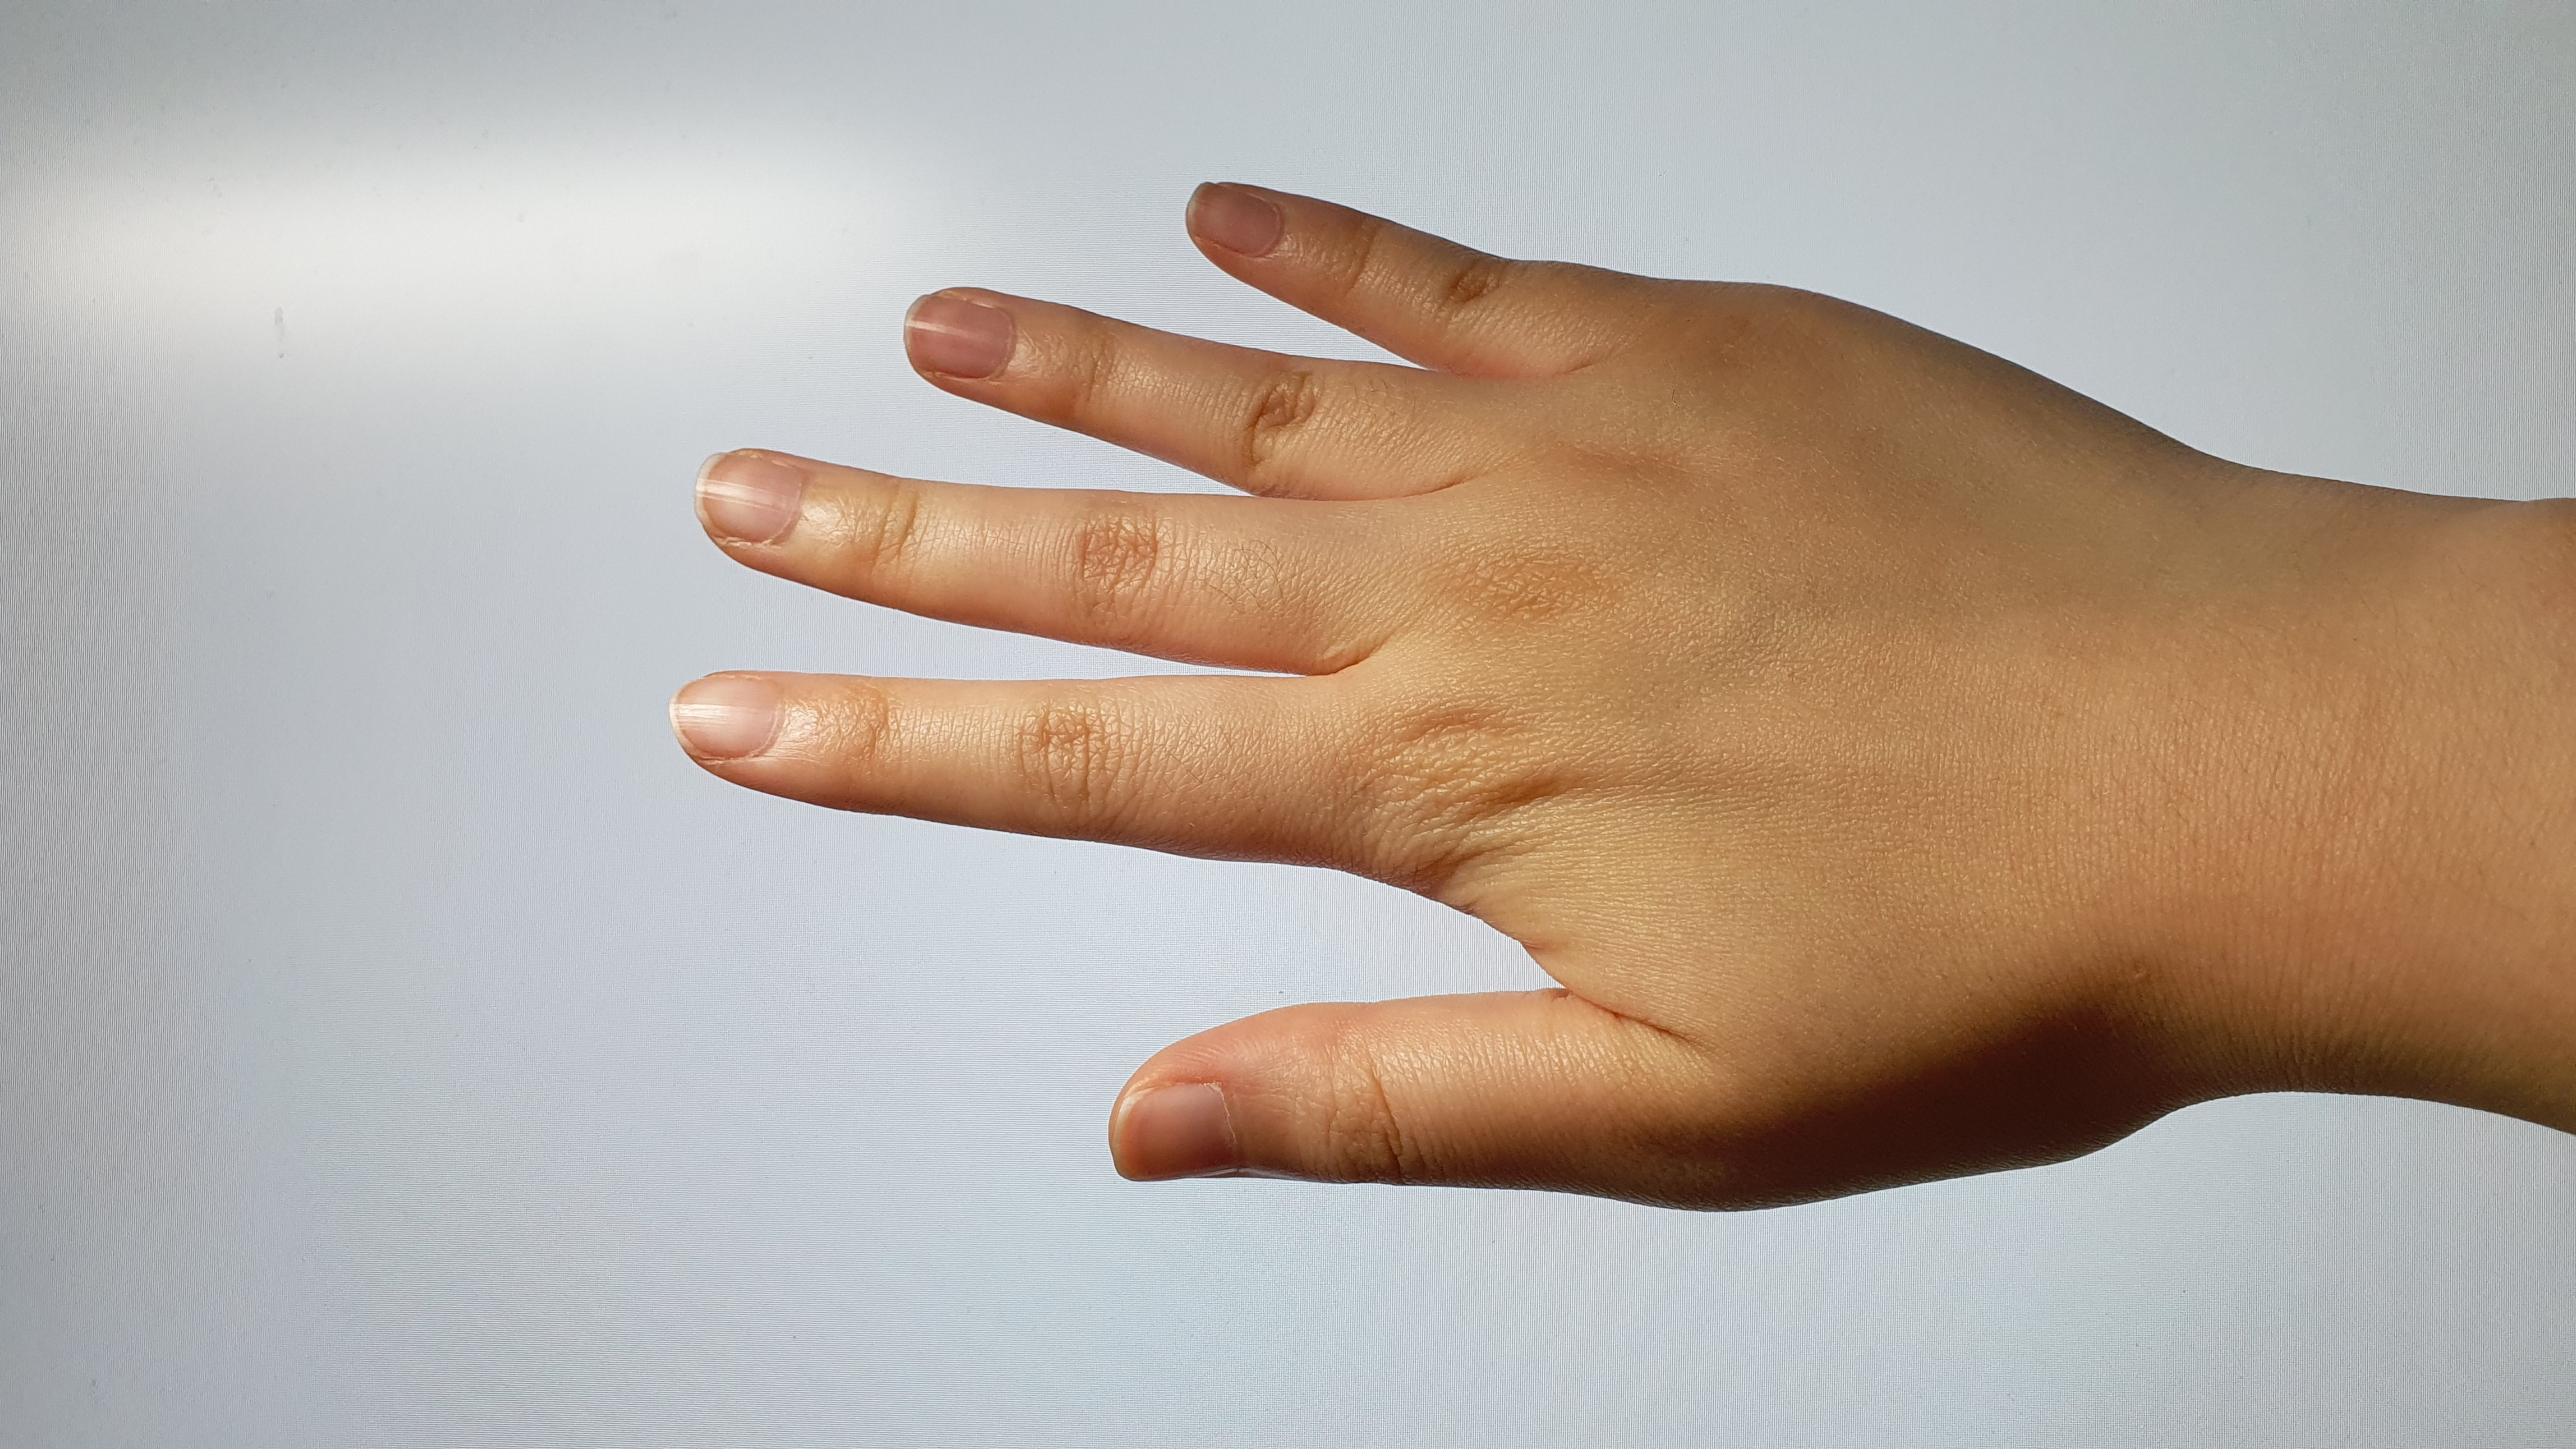backhand: (1463, 303, 2270, 1021)
hand: (644, 172, 2272, 1249)
index finger: (672, 649, 1435, 893)
middle finger: (686, 449, 1366, 681)
pinky: (1164, 168, 1619, 375)
ring finger: (888, 287, 1438, 510)
thumb: (1109, 991, 1716, 1235)
